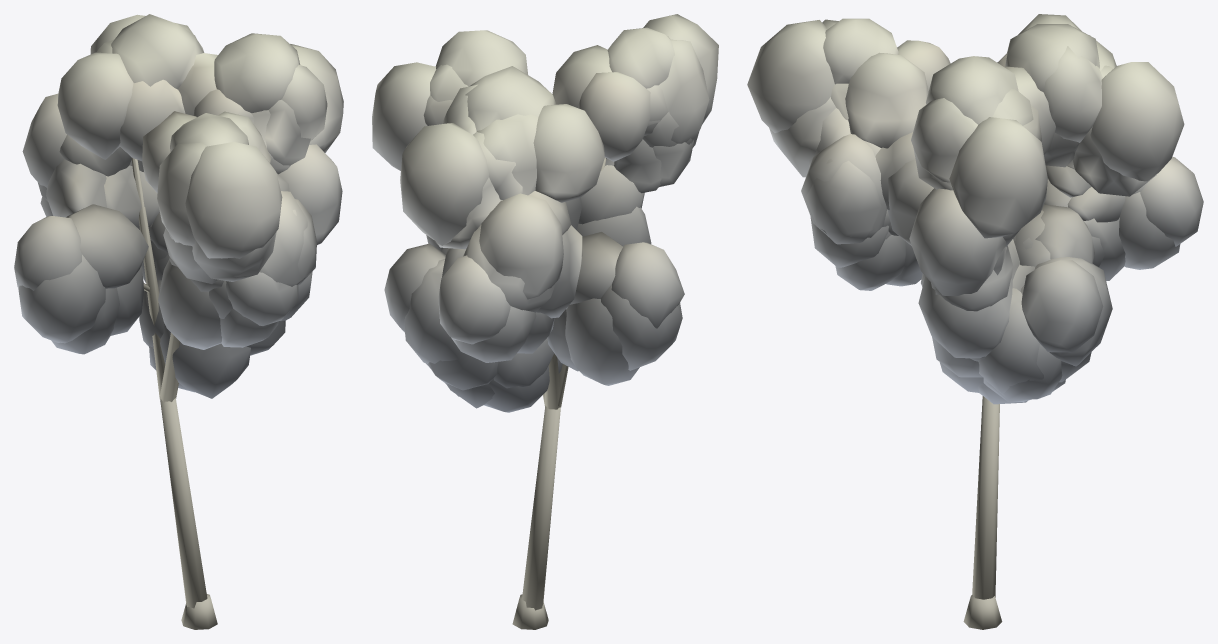
The picture shows the model from 3 angles, left to right: view 1: azimuth 30°, elevation 25°; view 2: azimuth 150°, elevation 25°; view 3: azimuth 270°, elevation 25°; orthographic projection. The views are drawn at different scales.
Visible parts, largest first — view 1: crown, trunk; view 2: crown, trunk; view 3: crown, trunk.
Part boxes in pixels (<box>): crown: <box>14,14,343,398</box>; trunk: <box>131,157,217,629</box>; crown: <box>372,14,718,412</box>; trunk: <box>512,157,606,629</box>; crown: <box>747,14,1203,404</box>; trunk: <box>963,396,1002,629</box>.
Bounding box in the file's own units: 8.43 × 14.99 × 10.47.
